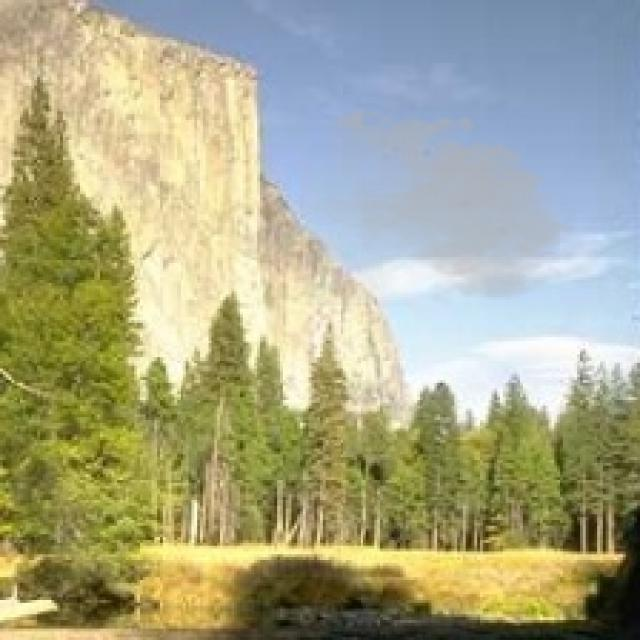smoke: (300, 103, 583, 306)
